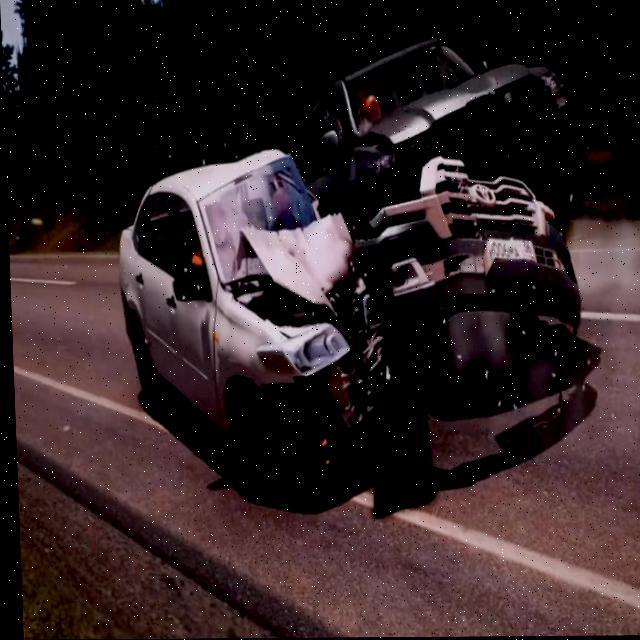multiple_accident: (83, 97, 601, 511)
